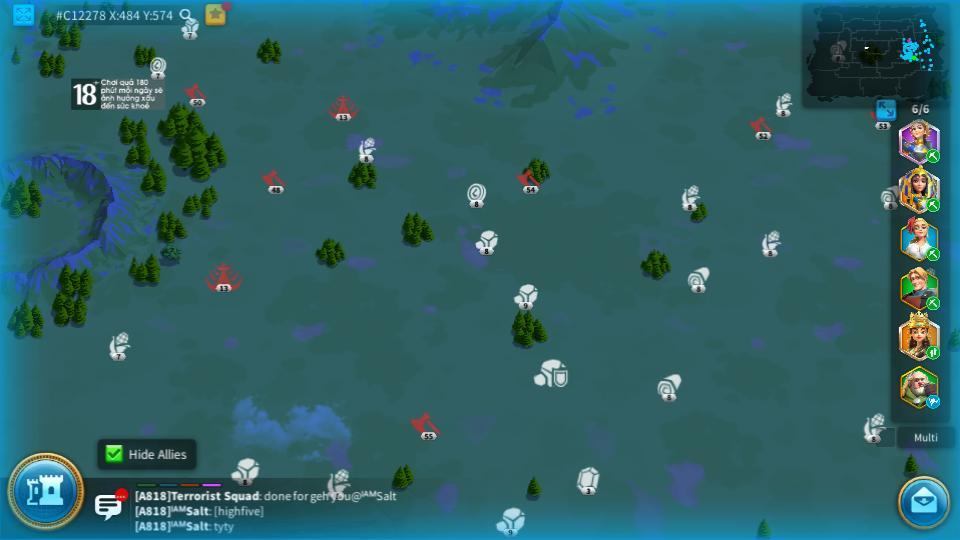gem-z-out: (575, 466, 601, 493)
march_idle: (925, 396, 942, 408)
march_marching: (925, 197, 941, 212), (925, 345, 941, 359), (925, 148, 941, 161)
